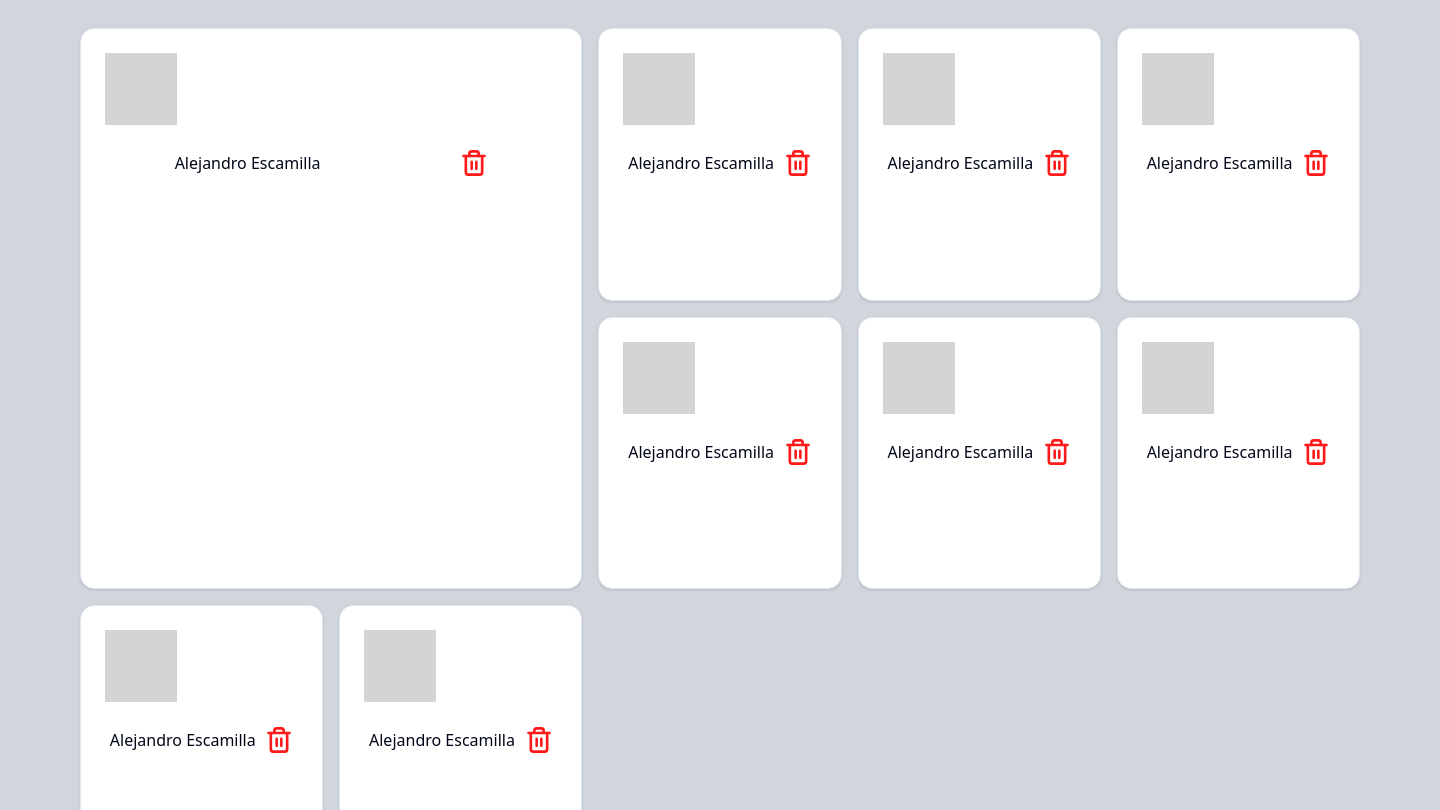
it: Gallery Removal › removes multiple images when deleting them one by one
Click the button with test id "image-item-card" showing "Alejandro Escamilla". click: (331, 309)
box: [80, 28, 582, 589]
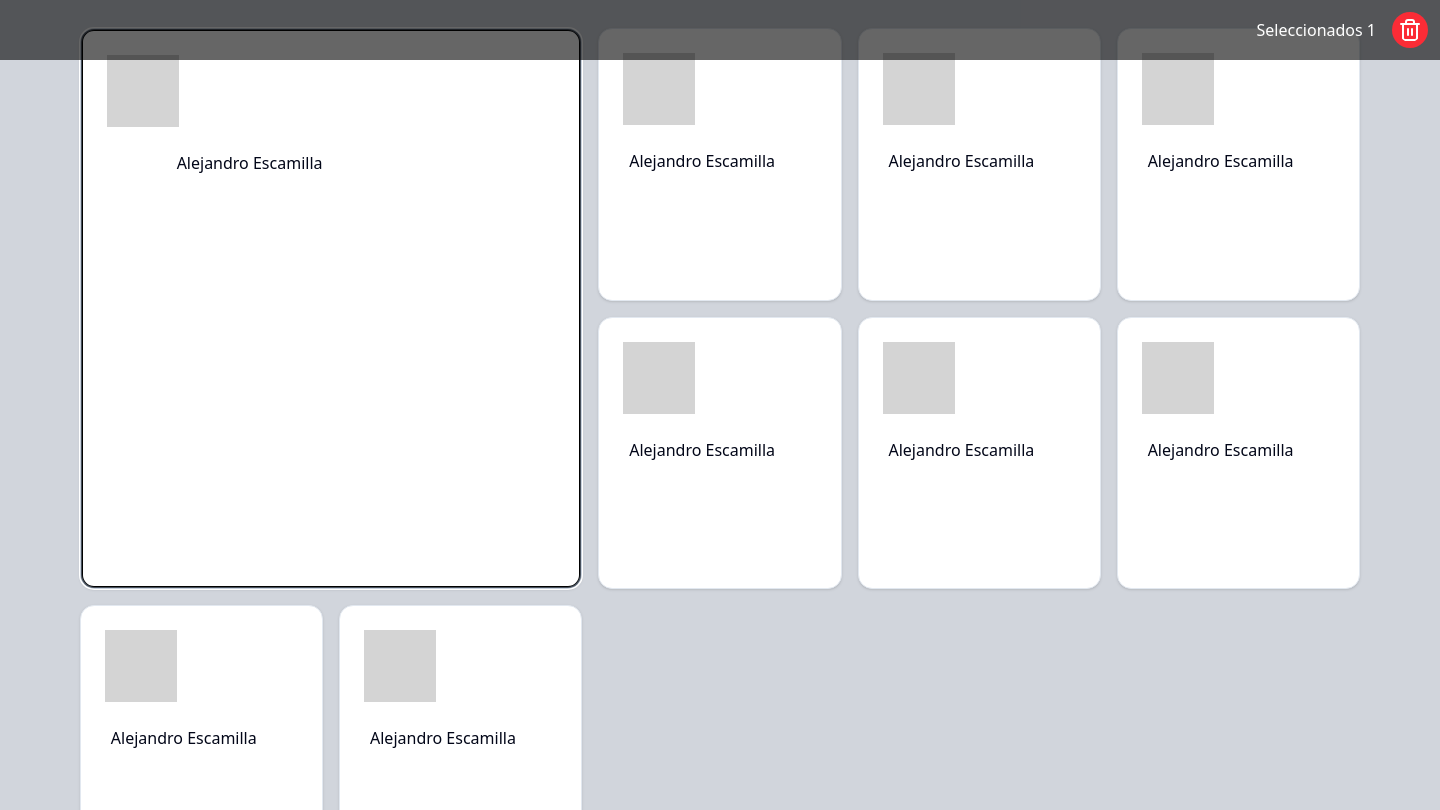
Click the button with test id "image-item-card" showing "Alejandro Escamilla". click: (720, 164)
box: [598, 28, 842, 301]
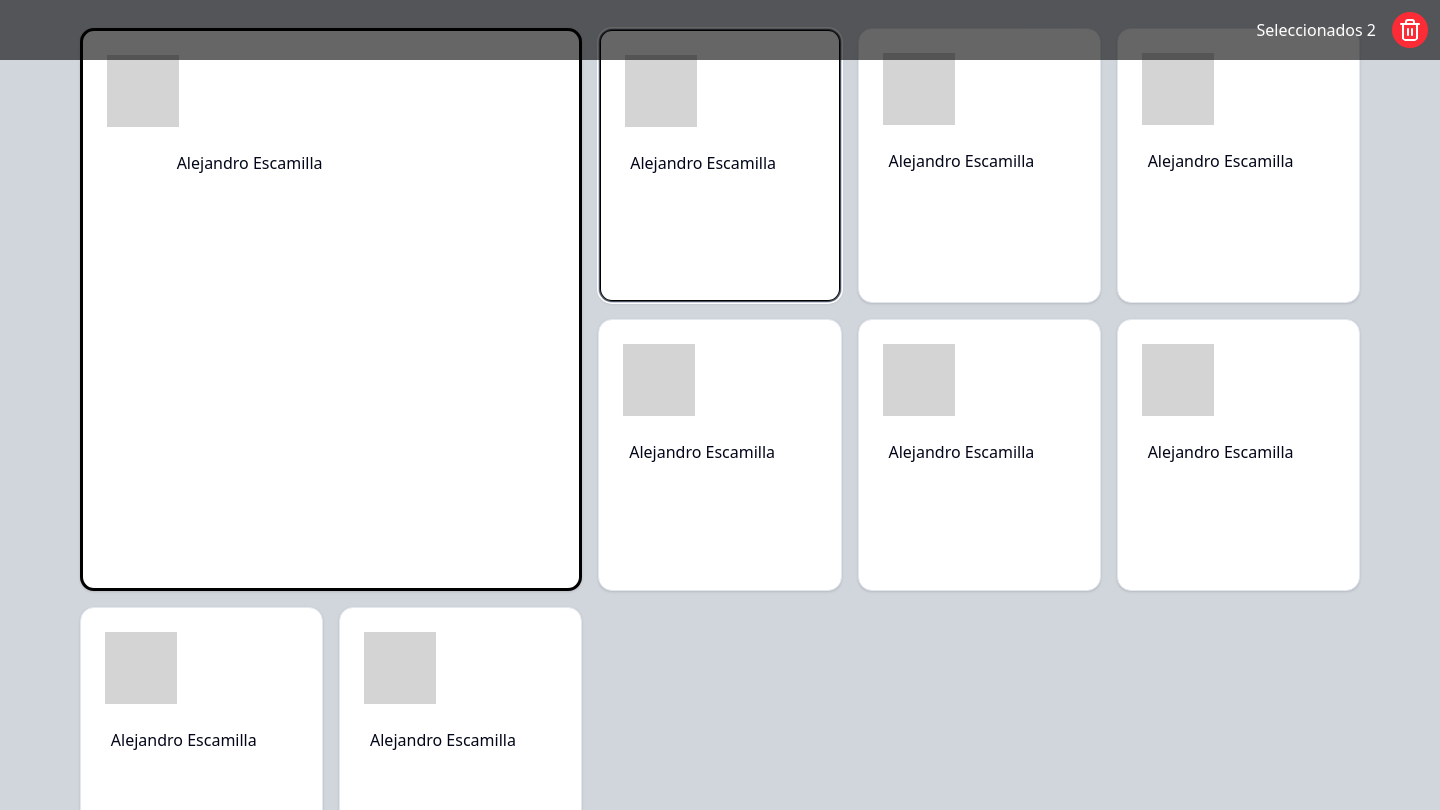
Click the button named "delete selected images". click: (1410, 30)
box: [1392, 12, 1428, 48]
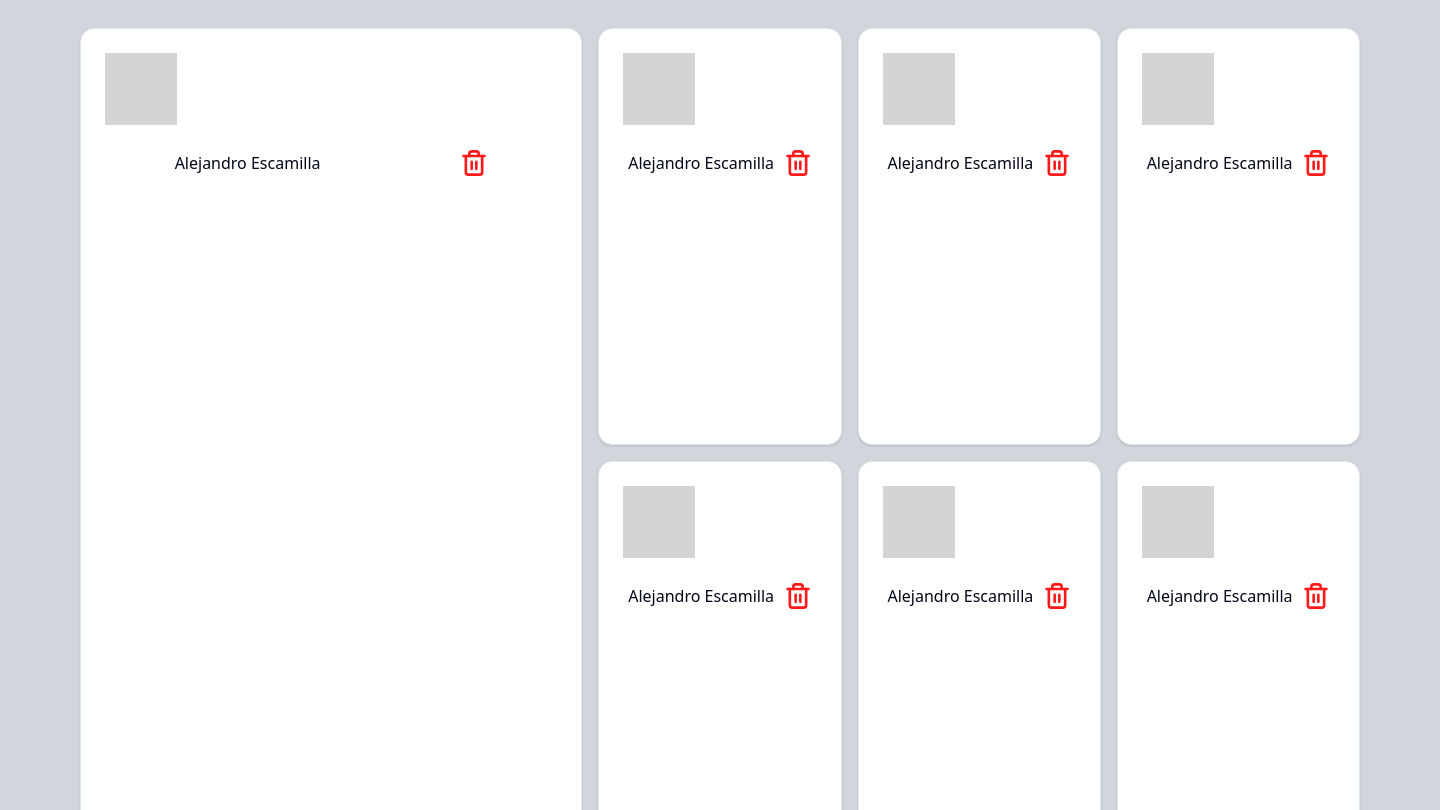
Expected: the number of pictures is 7
